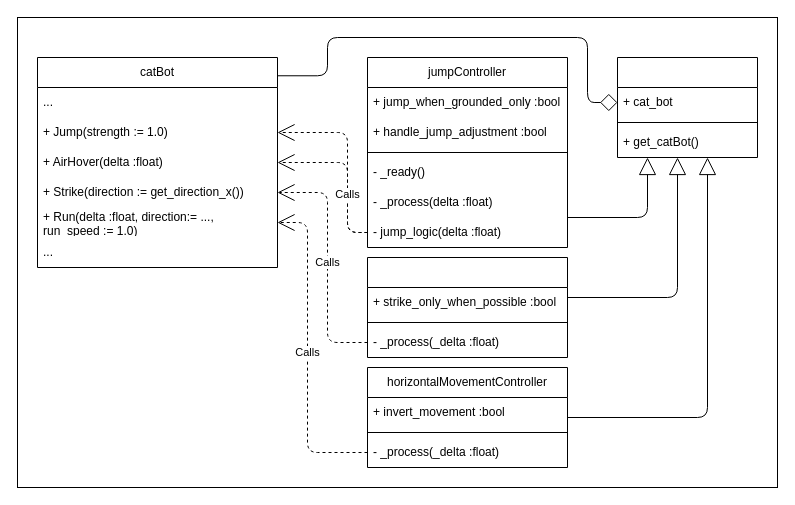
This 795x505 diagram has some shape labels left out. Each missing label, with the box of its shape:
autoController: (616, 56, 758, 158)
strikeController: (366, 256, 568, 358)
